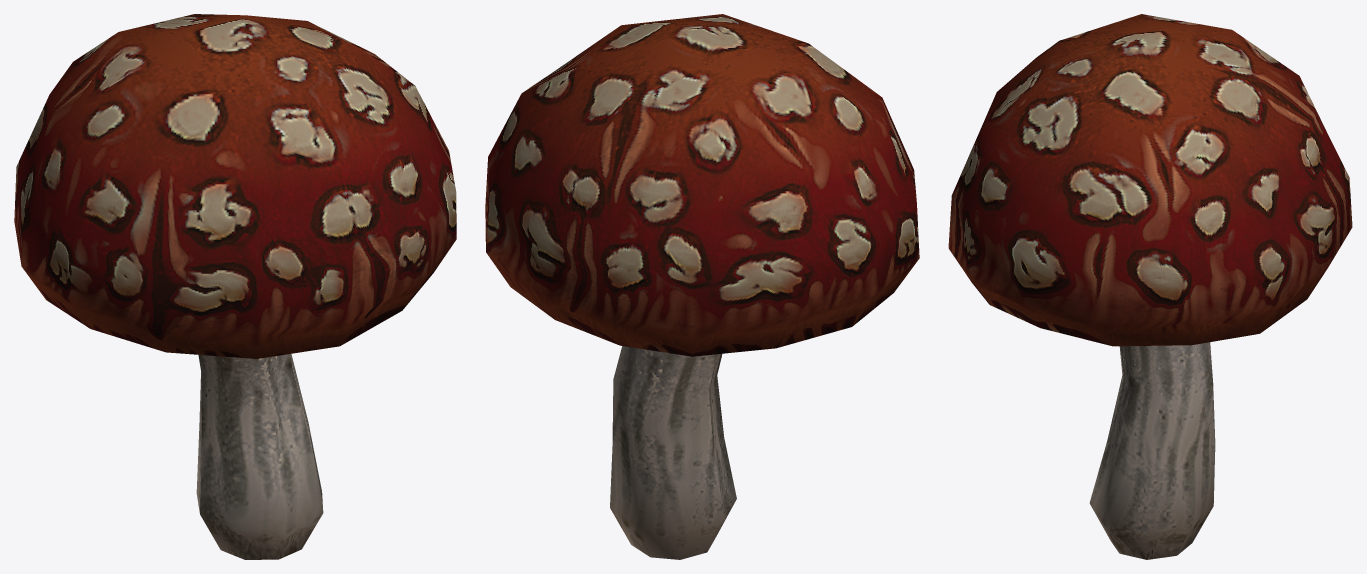
Rendered from mushroom_1_3.fbx.
3 renders of one model, left to right at view 1: azimuth 30°, elevation 25°; view 2: azimuth 150°, elevation 25°; view 3: azimuth 270°, elevation 25°, orthographic. The views are drawn at different scales.
Parts seen in each view (by area): view 1: Mushroom_1_3; view 2: Mushroom_1_3; view 3: Mushroom_1_3.
Part boxes in pixels (x1,y1,x2,y2): Mushroom_1_3: (14, 14, 456, 559); Mushroom_1_3: (485, 14, 919, 559); Mushroom_1_3: (948, 14, 1352, 559).
Size of the model in its own units: 0.472 by 0.6137 by 0.4569.
